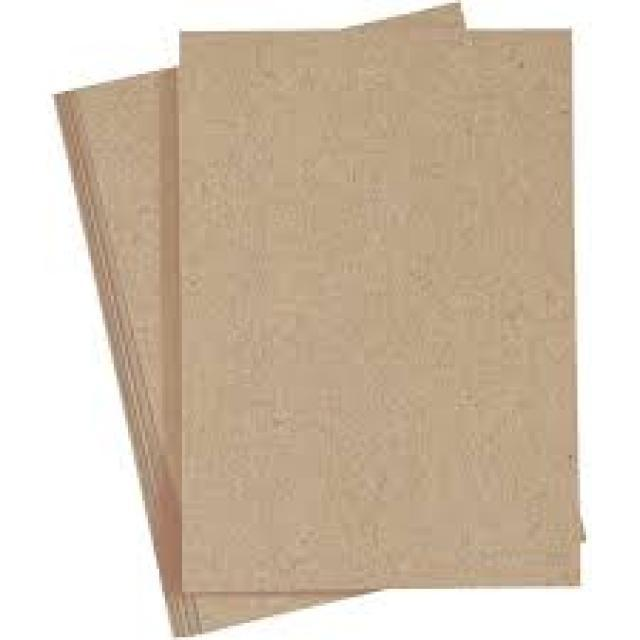Cardboard: (179, 30, 579, 592)
